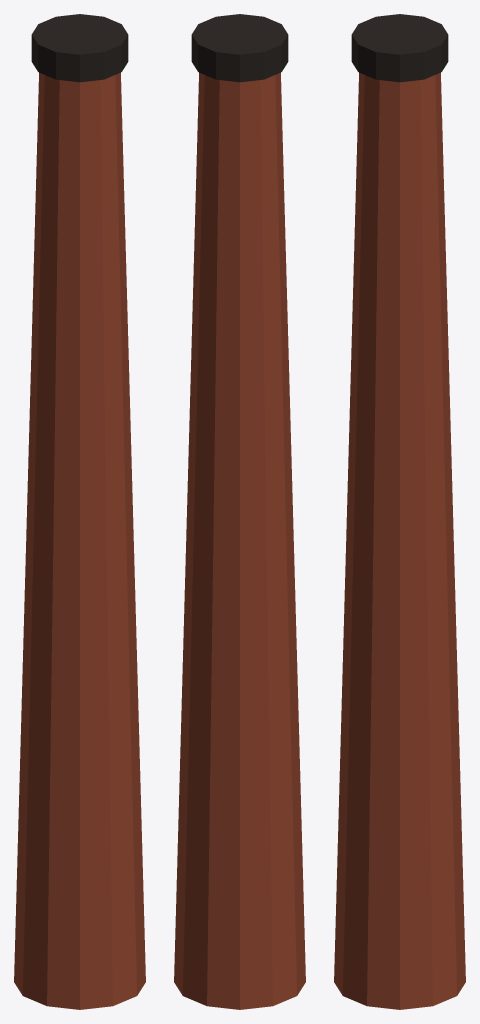
The model's file is stack.glb.
3 renders of one model, left to right at view 1: azimuth 30°, elevation 25°; view 2: azimuth 150°, elevation 25°; view 3: azimuth 330°, elevation 25°, orthographic.
Parts seen in each view (by area): view 1: stack; view 2: stack; view 3: stack.
Part boxes in pixels (bbox=[...]): stack: bbox=[14, 14, 145, 1009]; stack: bbox=[174, 14, 305, 1009]; stack: bbox=[334, 14, 465, 1009].
Size of the model in its own units: 0.26 by 2.06 by 0.26.
